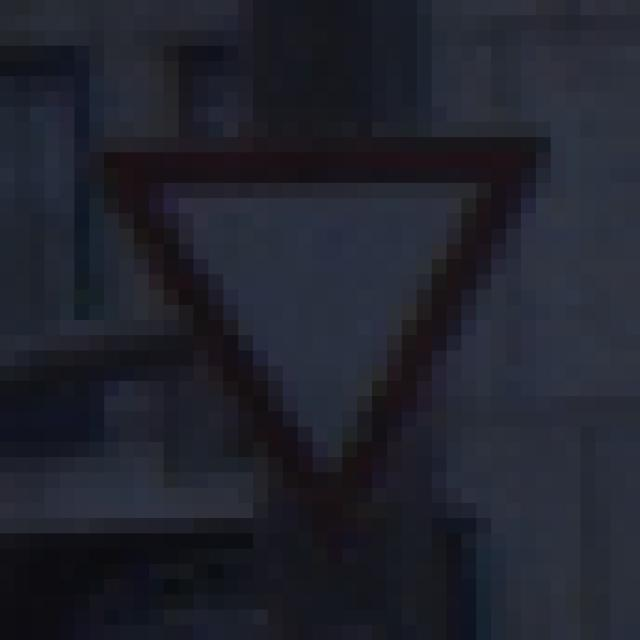Give Way: (76, 92, 567, 565)
